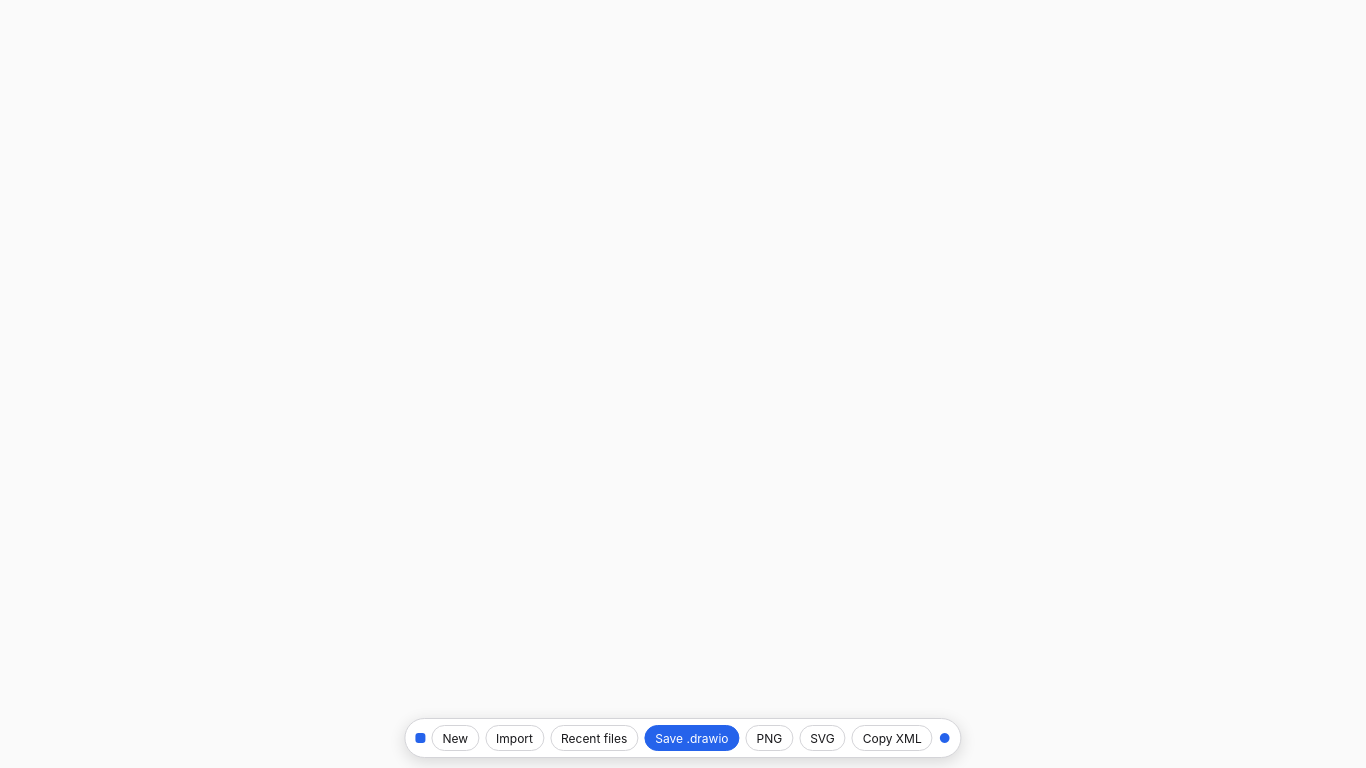
it: document save state › uses an in-page discard dialog, which works without sandbox allow-modals
The width and height of the screenshot is (1366, 768).
Click the button "New" at (455, 738), box [431,725,479,751]
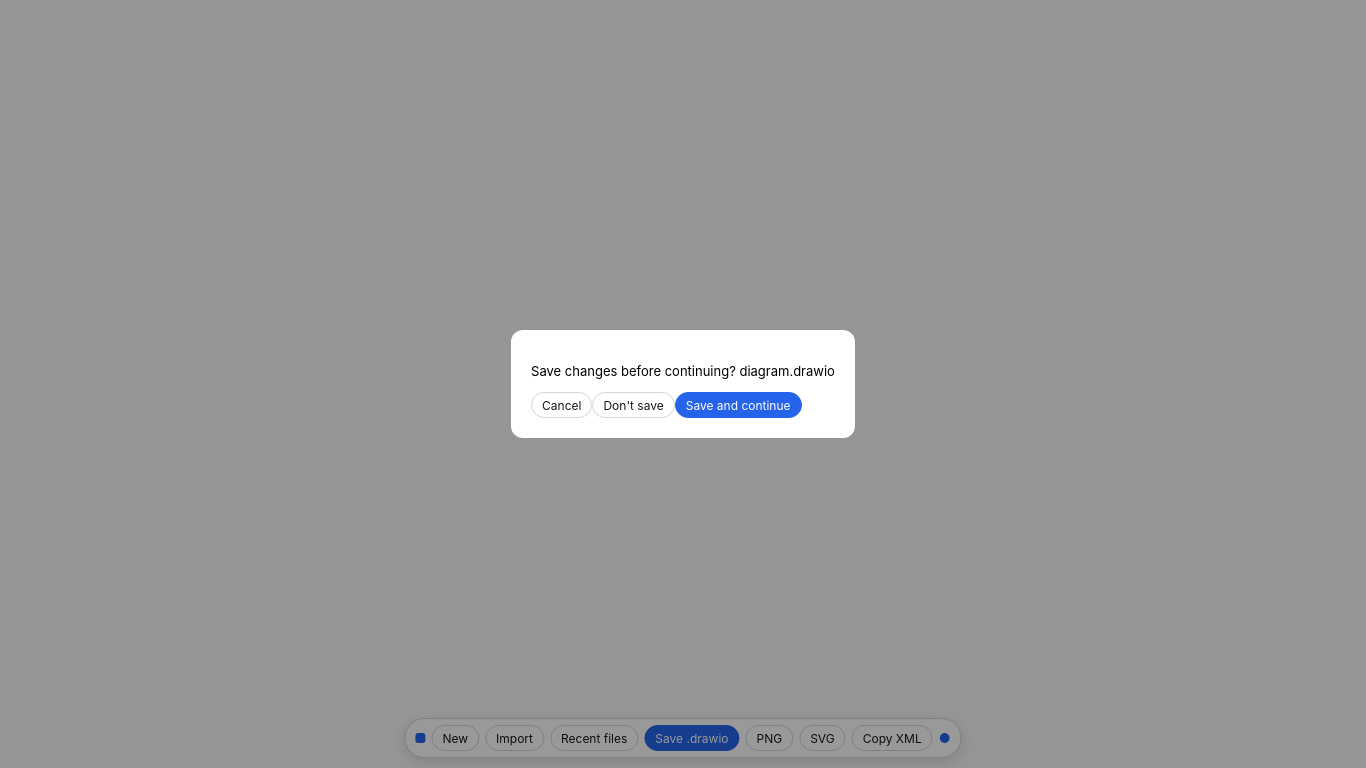
Result: the dialog is shown at [511,330,855,438]
Click the button "Cancel" at (562, 405), box [531,392,592,418]
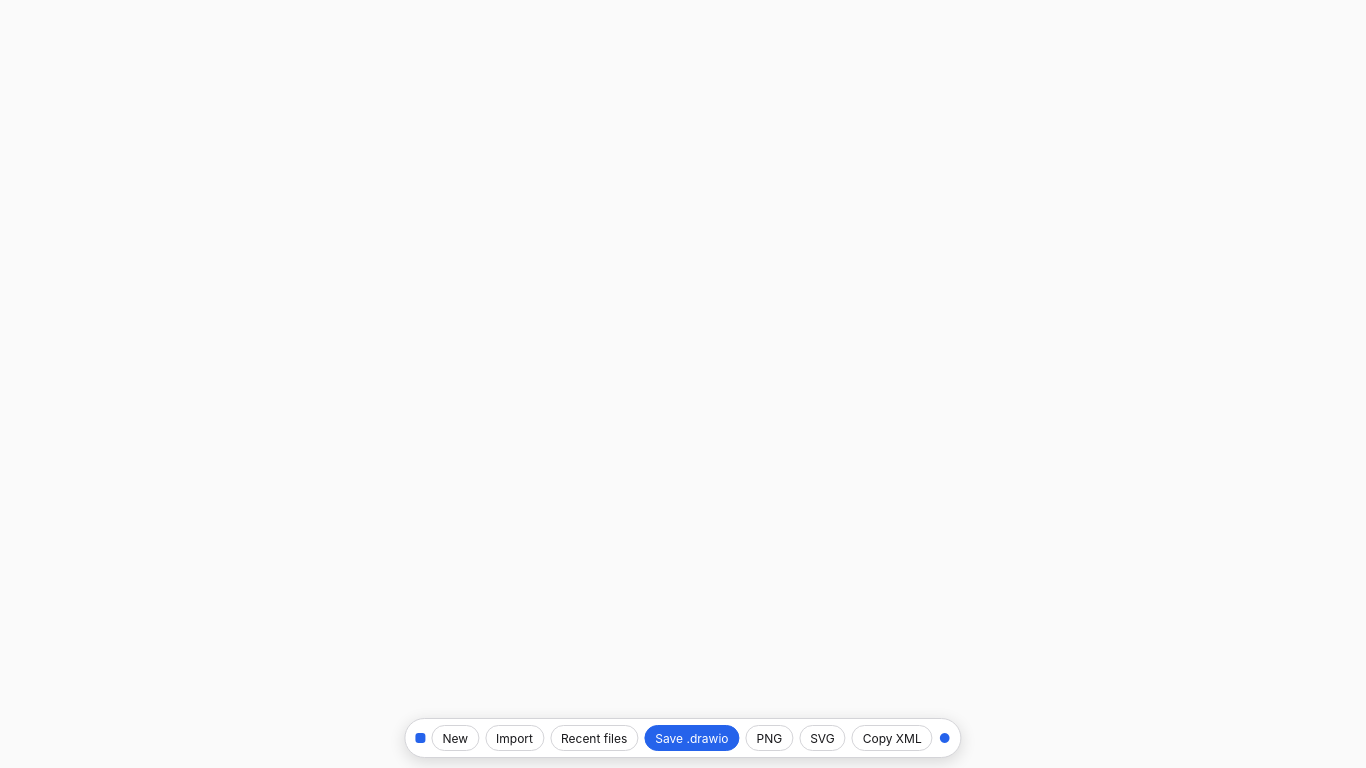
Result: the dialog is gone
